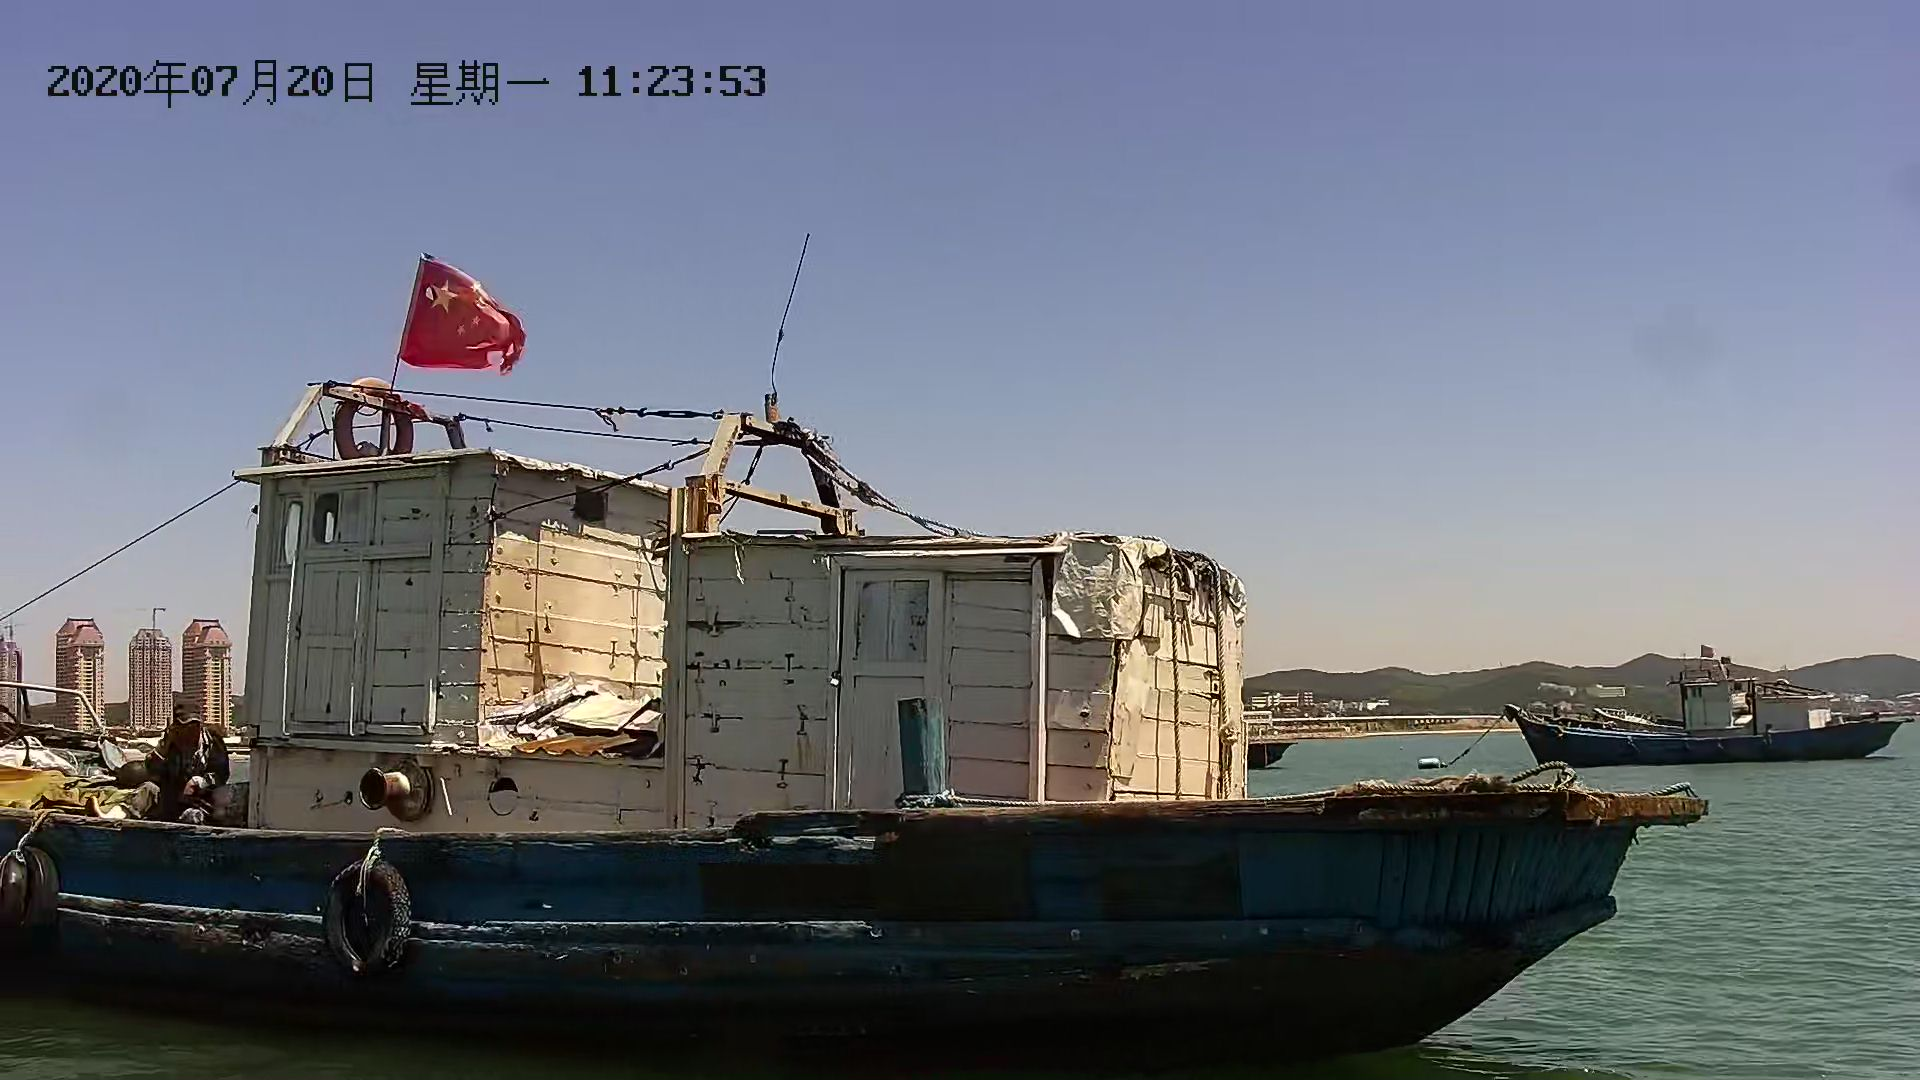boat: (1, 251, 1669, 1080), (1491, 655, 1920, 779)
